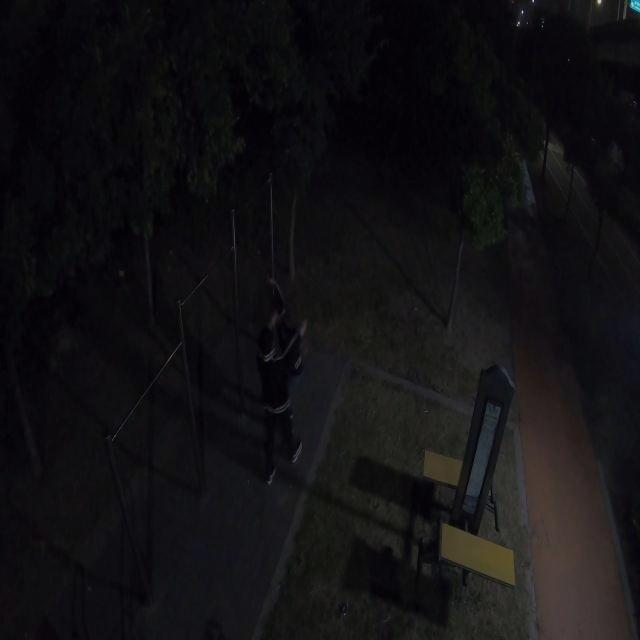fight: (247, 276, 312, 485)
